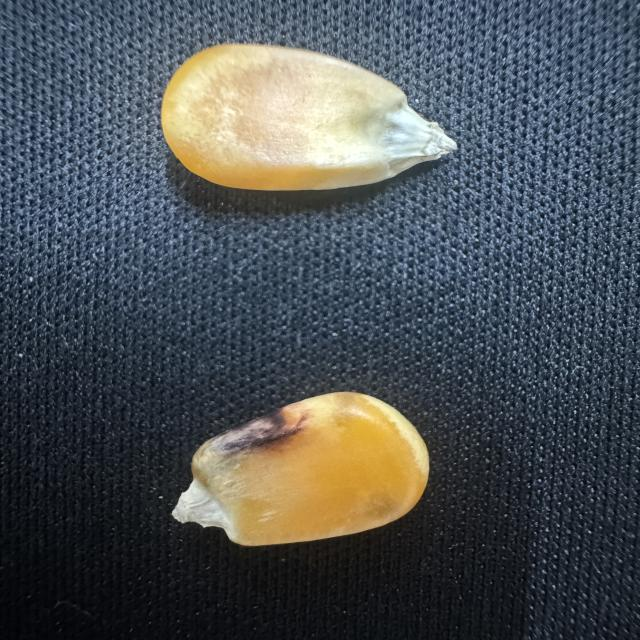Bad-Seed: (169, 388, 436, 553)
Good-Seed: (156, 37, 463, 199)
